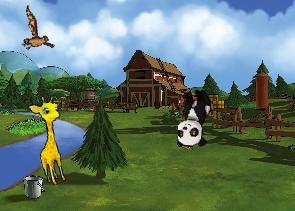eagle: (5, 5, 64, 62)
giraffe: (26, 93, 77, 187)
panda: (174, 86, 212, 149)
